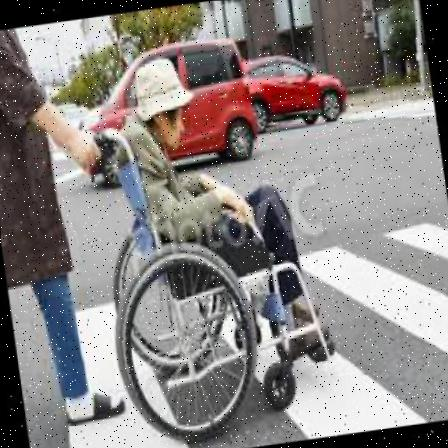wheel: (75, 40, 343, 447)
